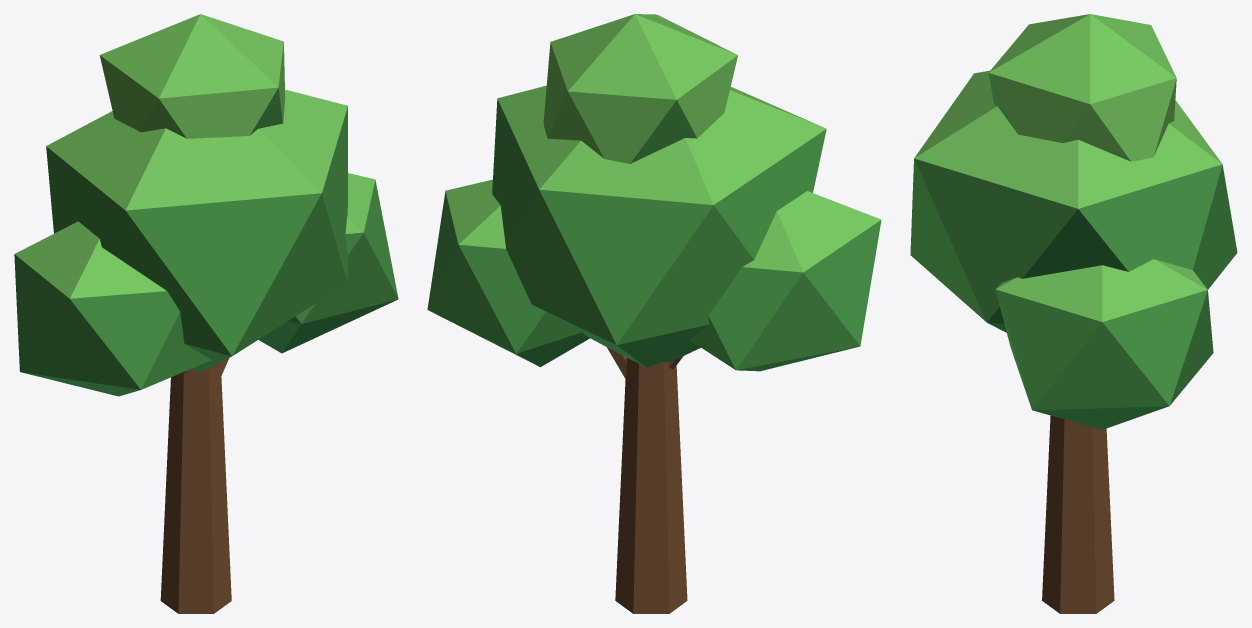
The model's file is Tree_Oak_A.fbx.
The picture shows the model from 3 angles, left to right: view 1: azimuth 30°, elevation 25°; view 2: azimuth 150°, elevation 25°; view 3: azimuth 270°, elevation 25°; orthographic projection. The views are drawn at different scales.
Visible parts, largest first — view 1: Tree_Oak_A; view 2: Tree_Oak_A; view 3: Tree_Oak_A.
Boxes of the visible parts, bbox=[...] form: Tree_Oak_A: bbox=[14, 14, 398, 613]; Tree_Oak_A: bbox=[427, 14, 881, 613]; Tree_Oak_A: bbox=[910, 14, 1237, 613].
Size of the model in its own units: 3.72 by 5.4 by 2.71.
1 material, 1 textured.
